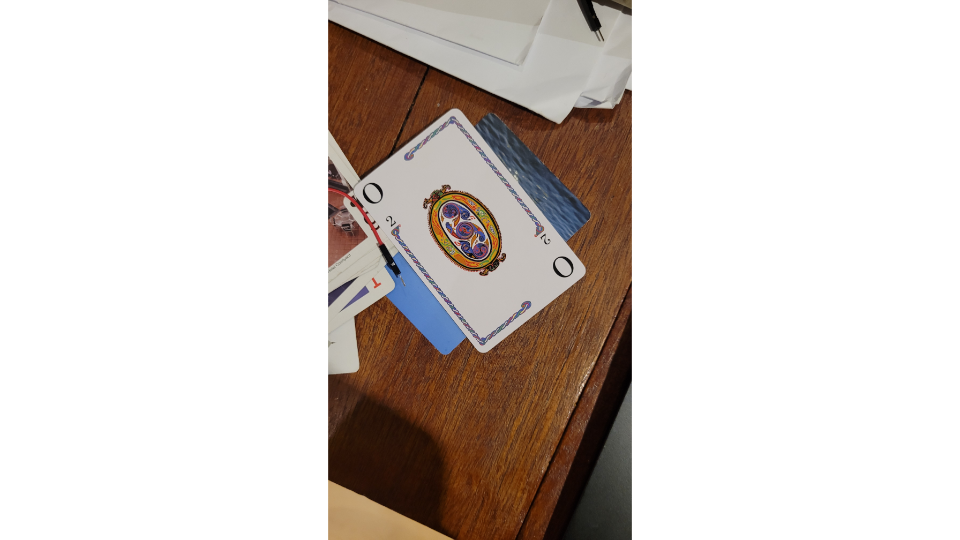O: (351, 106, 589, 355)
